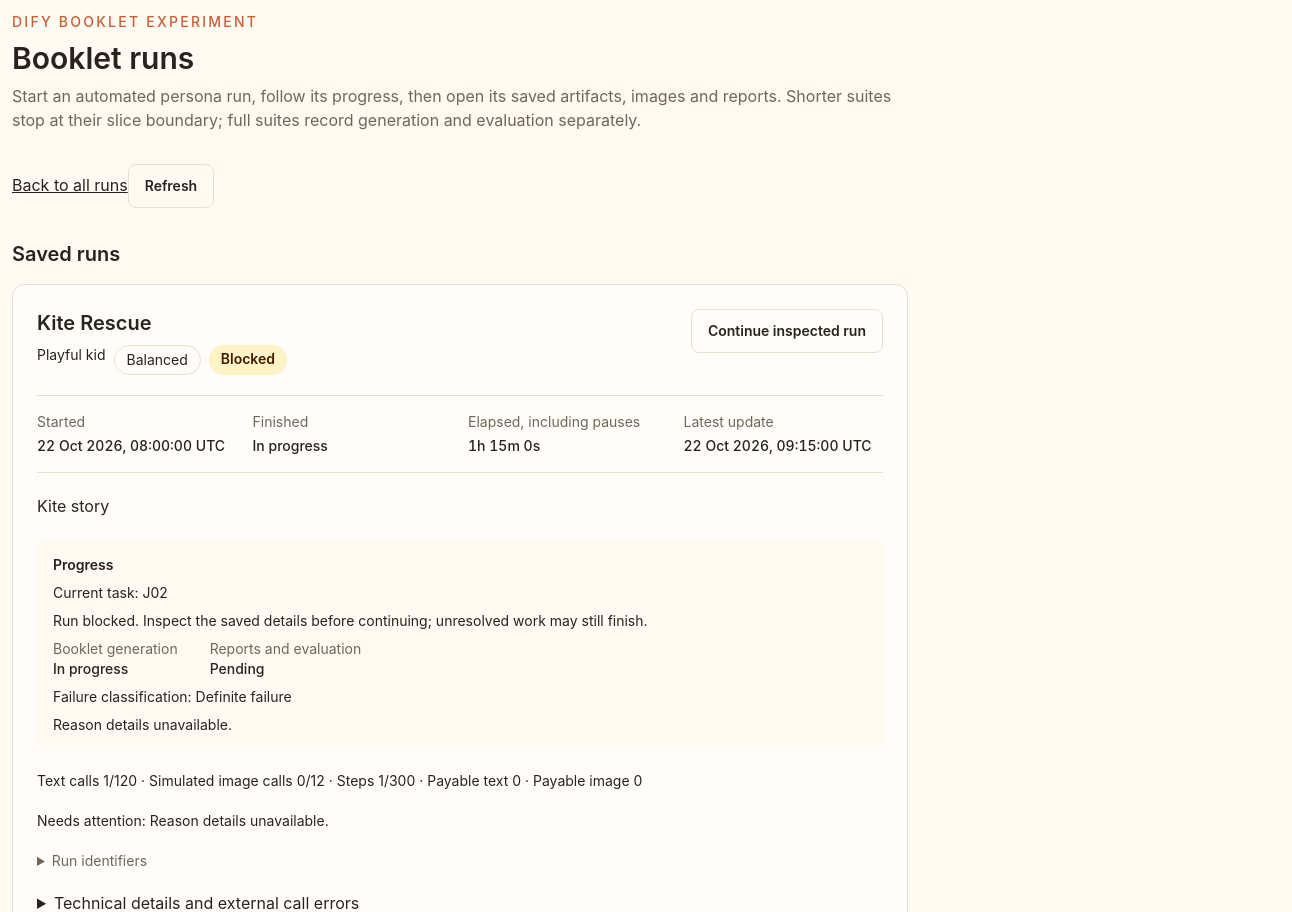
Scenario: booklet runner inspector › continues the exact server-marked retained active decision with one receipt POST
Step 1. Click the button "Continue inspected run" → [787, 331], box [691,309,883,353]
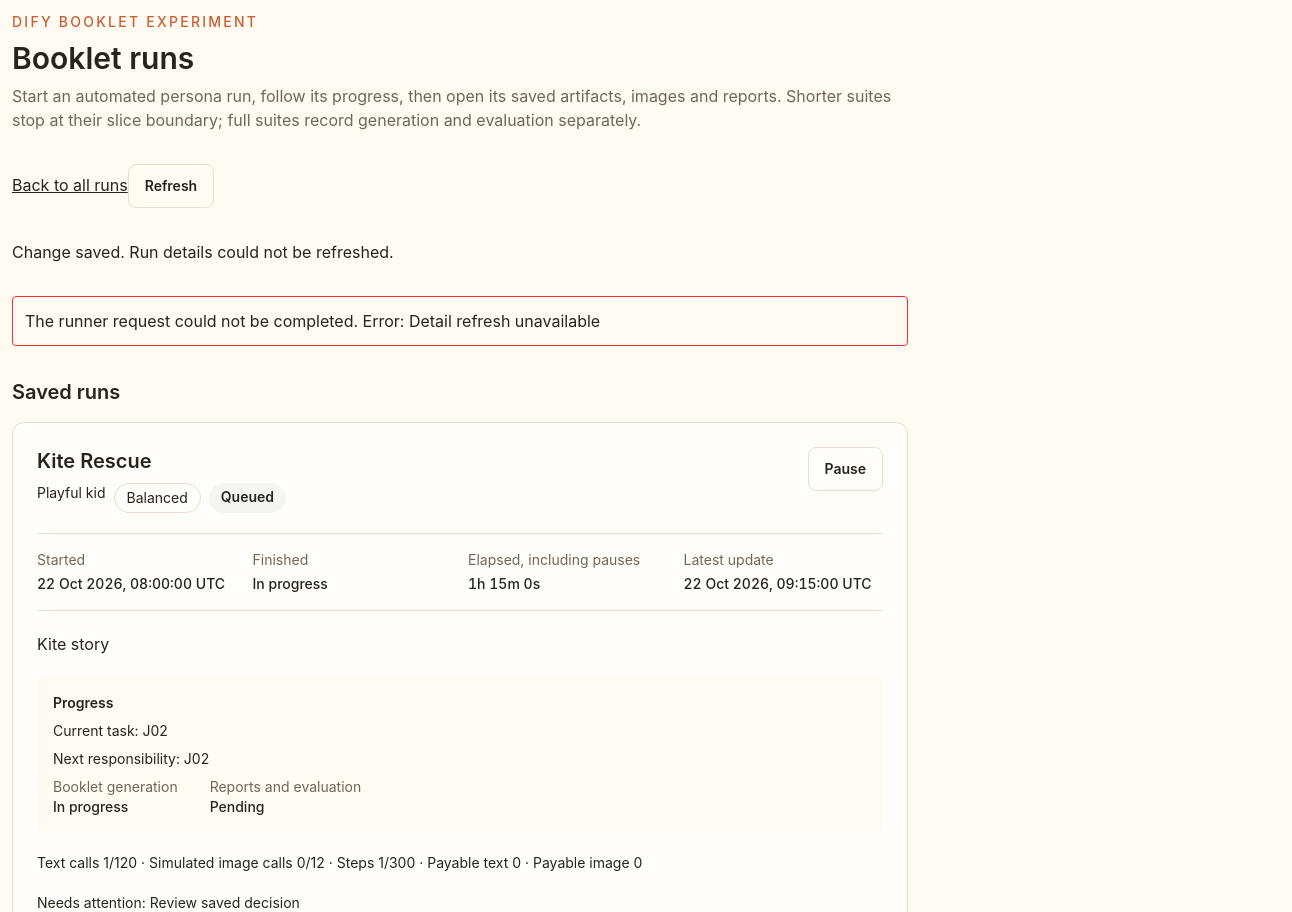
Check: the text "Change saved. Run details could not be refreshed." is shown, box [12,242,394,262]
Check: the button "Continue inspected run" is gone
